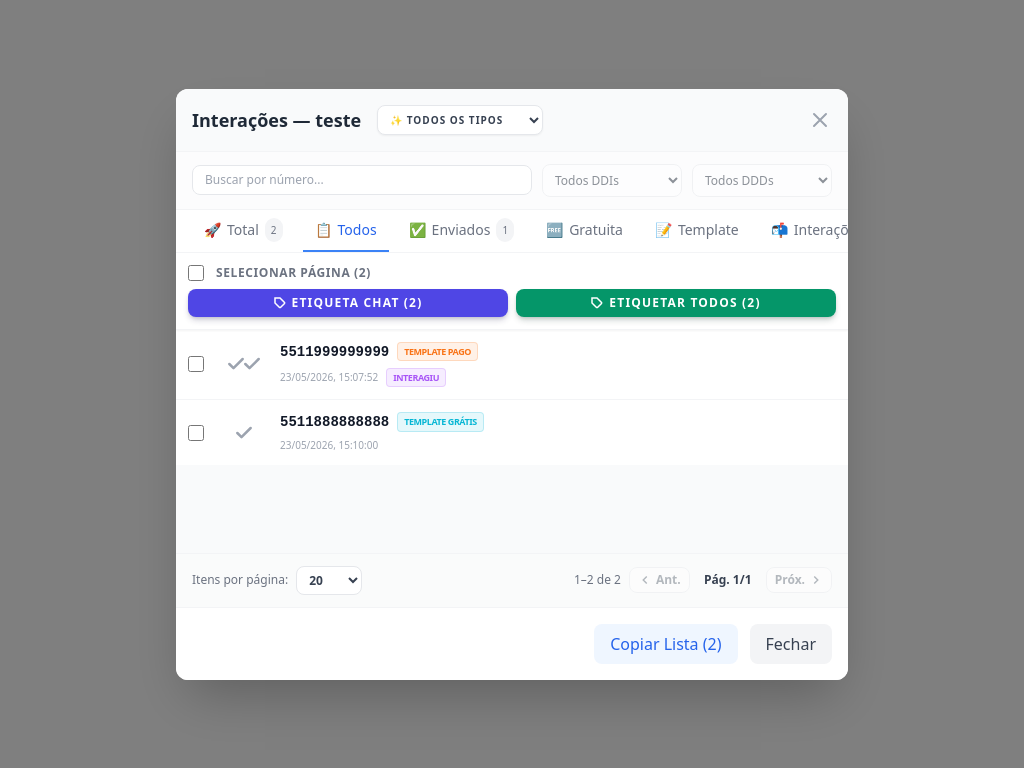
Test: ContactsModal › permite selecionar contatos individualmente e exibe botão de etiquetar
Expected: the button "Etiquetar Todos (2)" is shown, top-left (516, 288), bottom-right (836, 316)
Click the checkbox next to "5511999999999". click: [196, 364]
box: top-left (188, 356), bottom-right (204, 372)
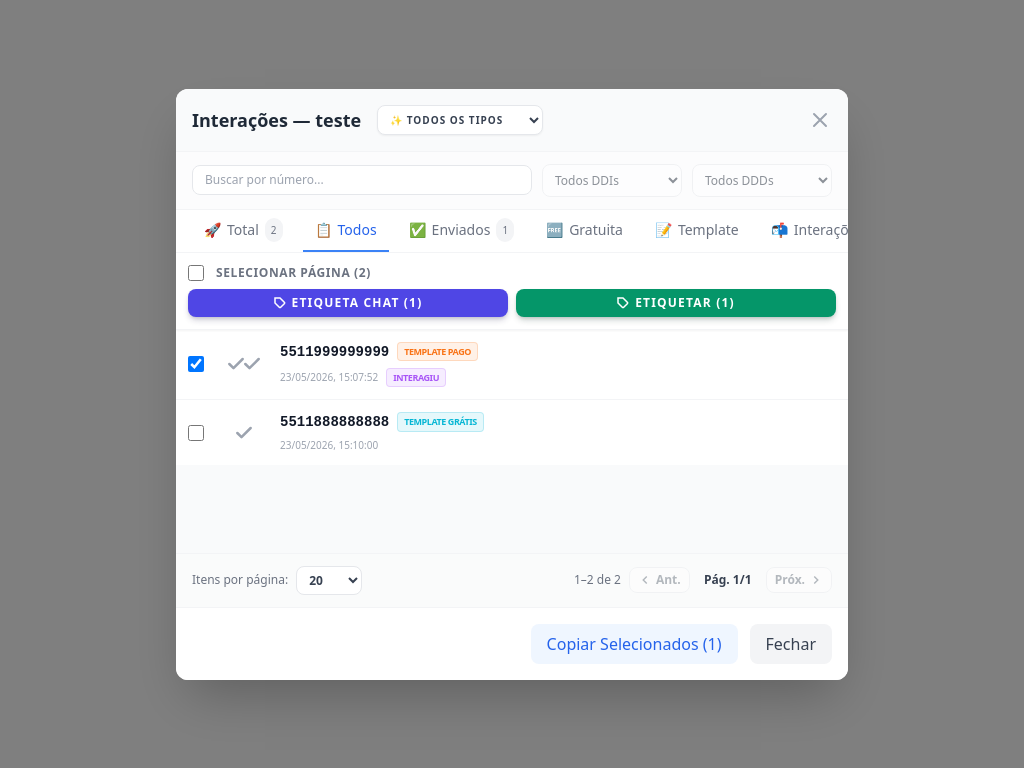
Now the button "Etiquetar (1)" is shown, box top-left (516, 288), bottom-right (836, 316)
